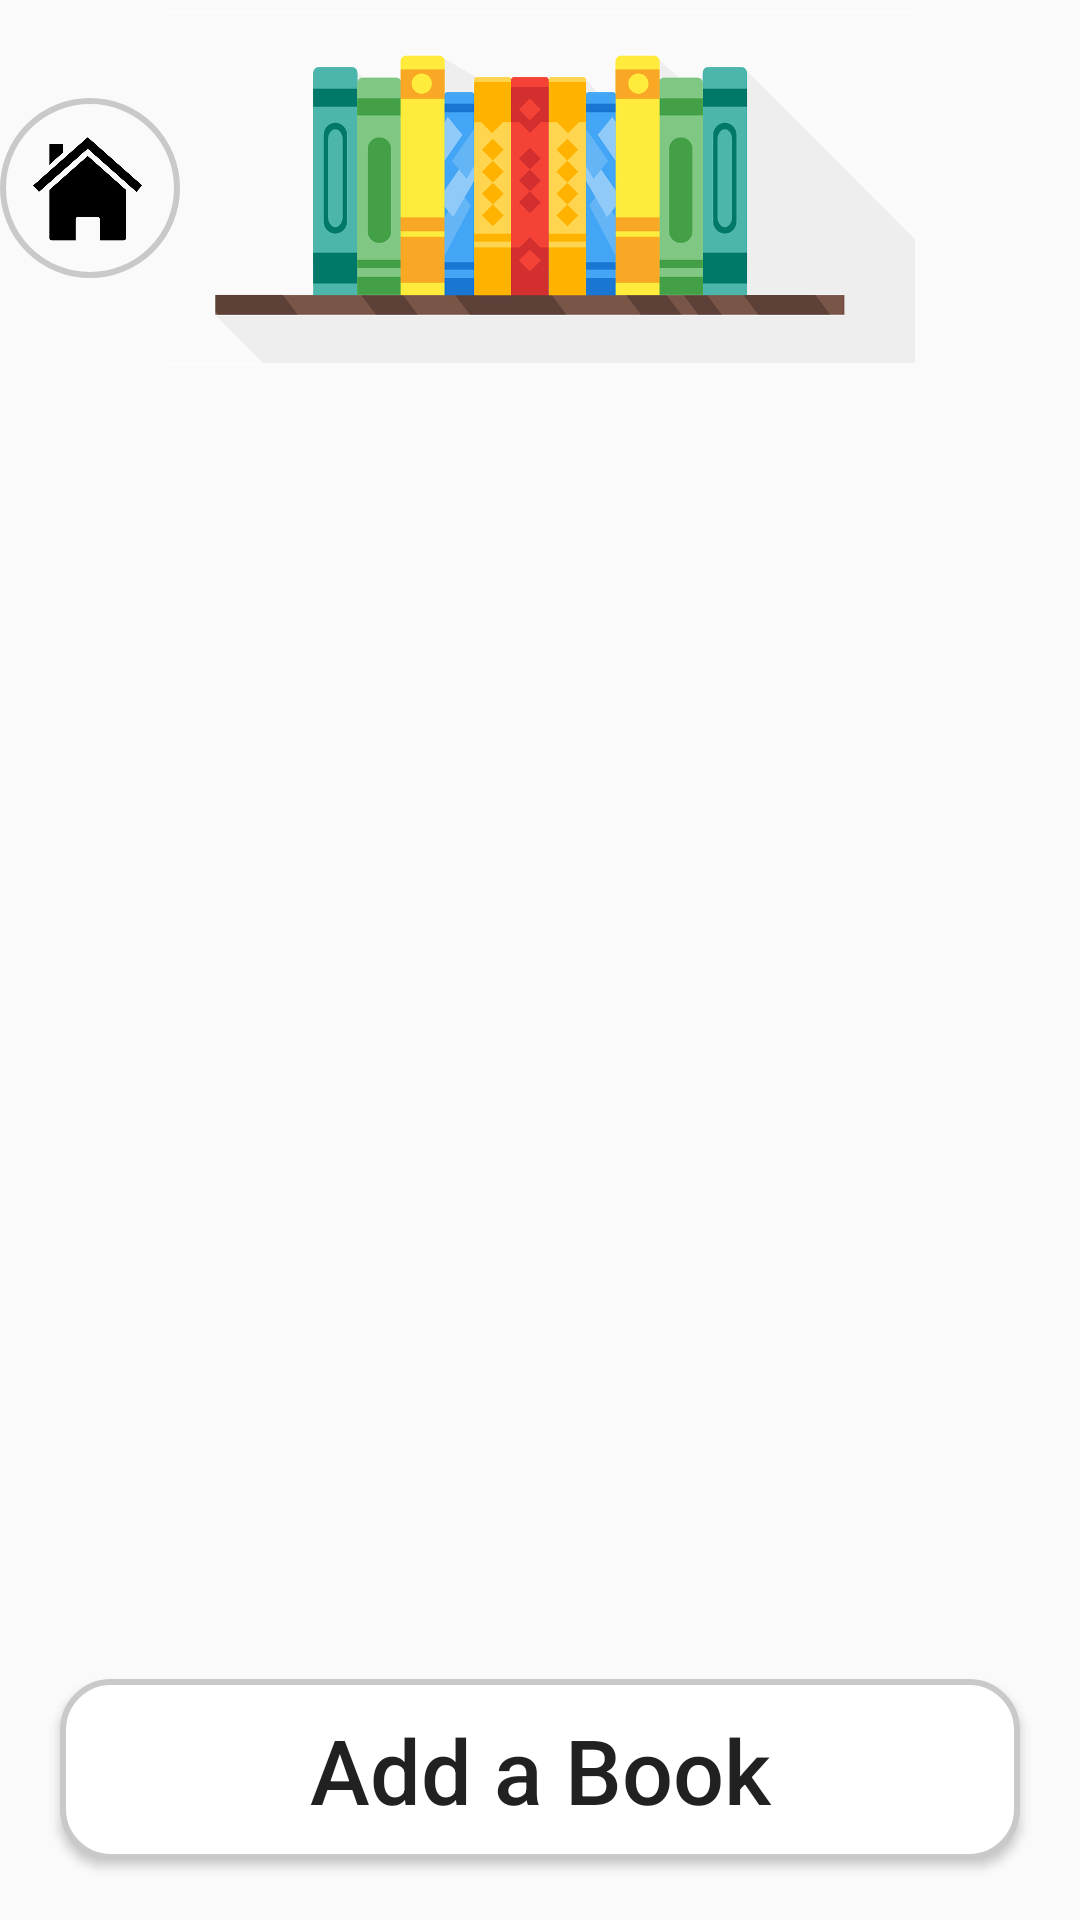

Screen size 1080 × 1920. Icon name, then its box in pixels as (x1, y1, x2, y2):
home: (0, 98, 180, 278)
